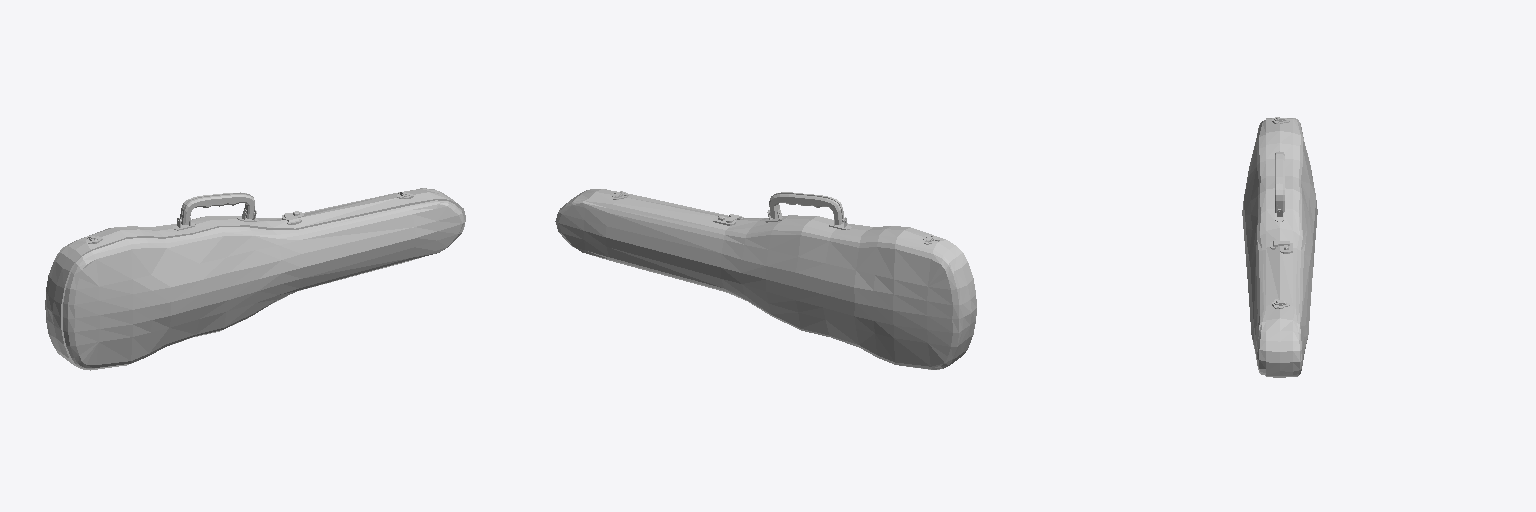
File: ViolinCase.obj
3 renders of one model, left to right at view 1: azimuth 30°, elevation 25°; view 2: azimuth 150°, elevation 25°; view 3: azimuth 270°, elevation 25°, orthographic.
Parts seen in each view (by area): view 1: case, handle; view 2: case, handle; view 3: case, handle.
Part boxes in pixels (x1,y1,x2,y2): case: (45, 188, 465, 370); handle: (180, 192, 254, 224); case: (555, 189, 976, 369); handle: (769, 192, 843, 224); case: (1242, 117, 1317, 377); handle: (1275, 151, 1284, 212).
Size of the model in its own units: 3.37 by 1.16 by 0.5401.